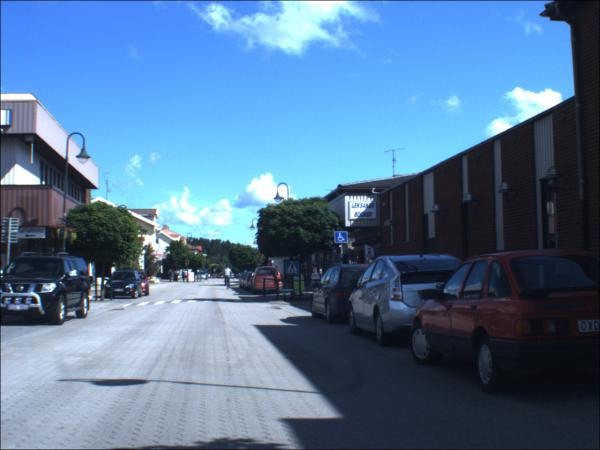PEDESTRIAN_CROSSING: (285, 262, 302, 277)
